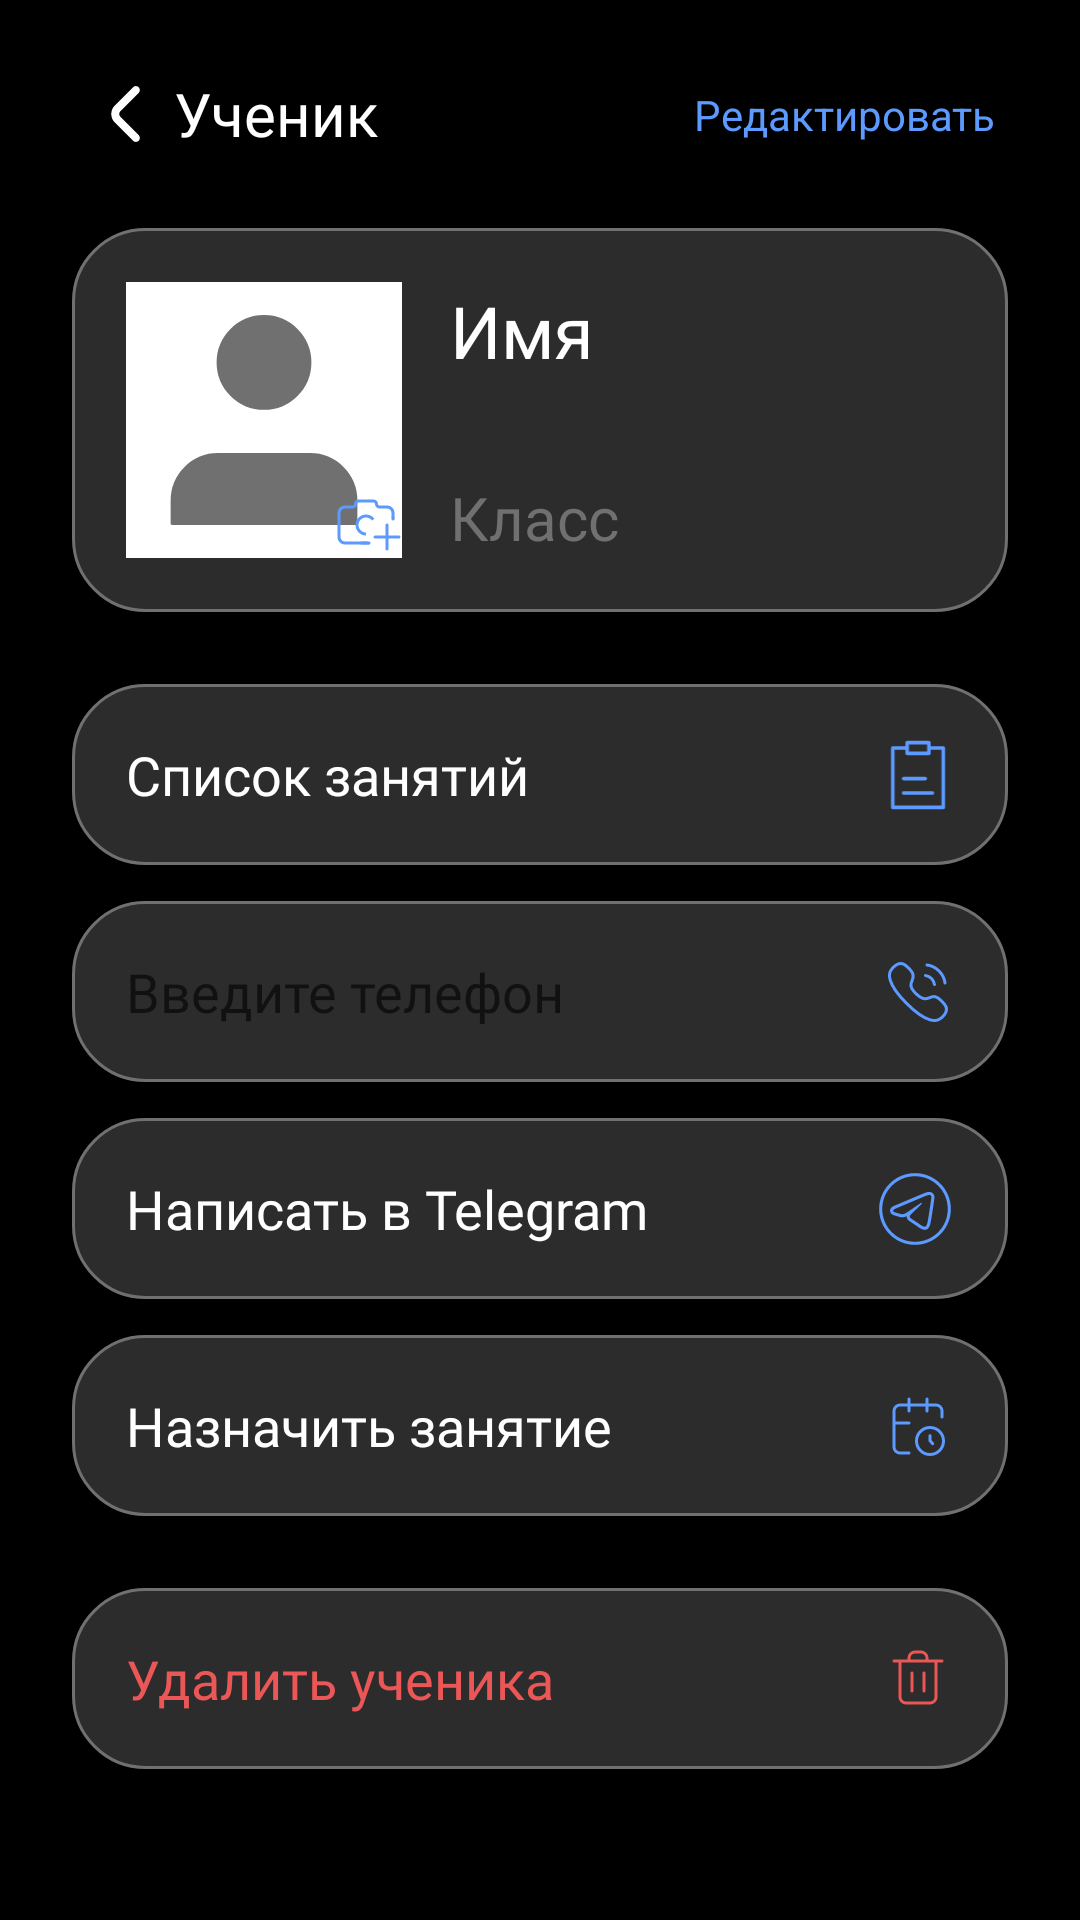

Where to tap for icons on this 1080w x 1920h app screen, as (x=x, y=y):
calendar clock: (x=918, y=1426)
list: (x=918, y=775)
phone call: (x=918, y=992)
trash: (x=918, y=1677)
